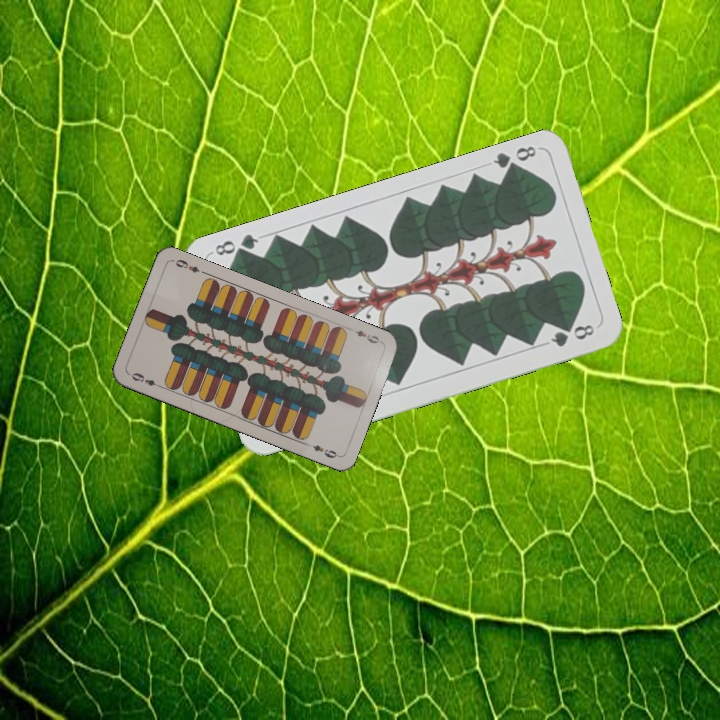E9: (346, 324, 385, 346), (127, 369, 165, 391)
G8: (489, 141, 539, 177)
